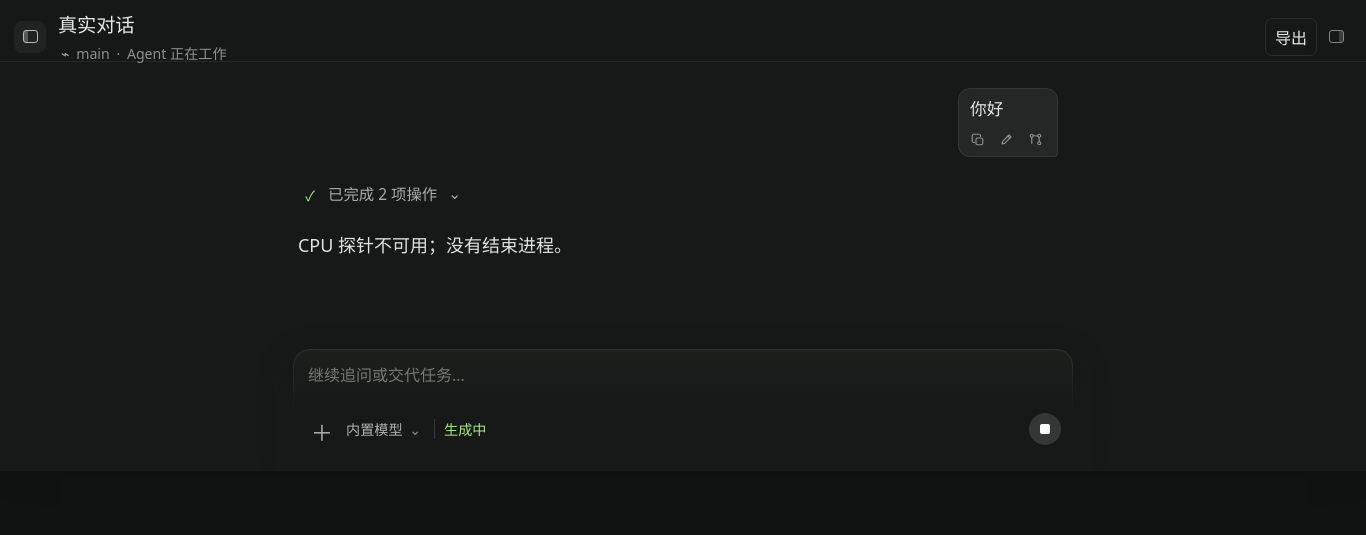
Test: conversation timeline projection › does not render an unavailable CPU probe as zero percent
Click the button "✓ 已完成 2 项操作 ⌄".
click(384, 194)  # box [299,177,468,210]
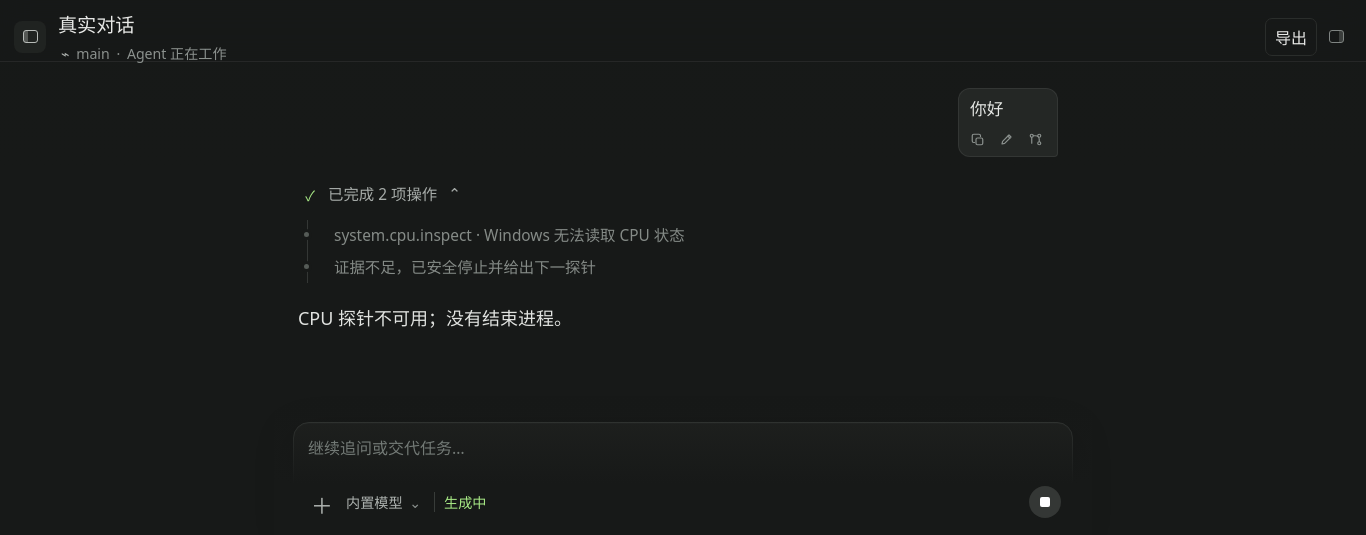
expect the text "system.cpu.inspect · Windows 无法读取 CPU 状态" is shown: met, box [334,225,685,246]
